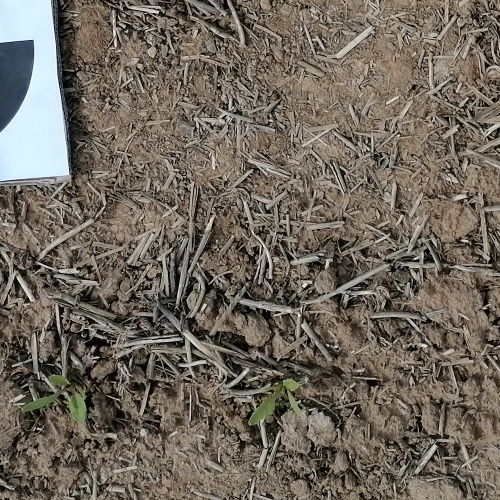beet: (22, 374, 91, 428), (245, 378, 303, 432)
